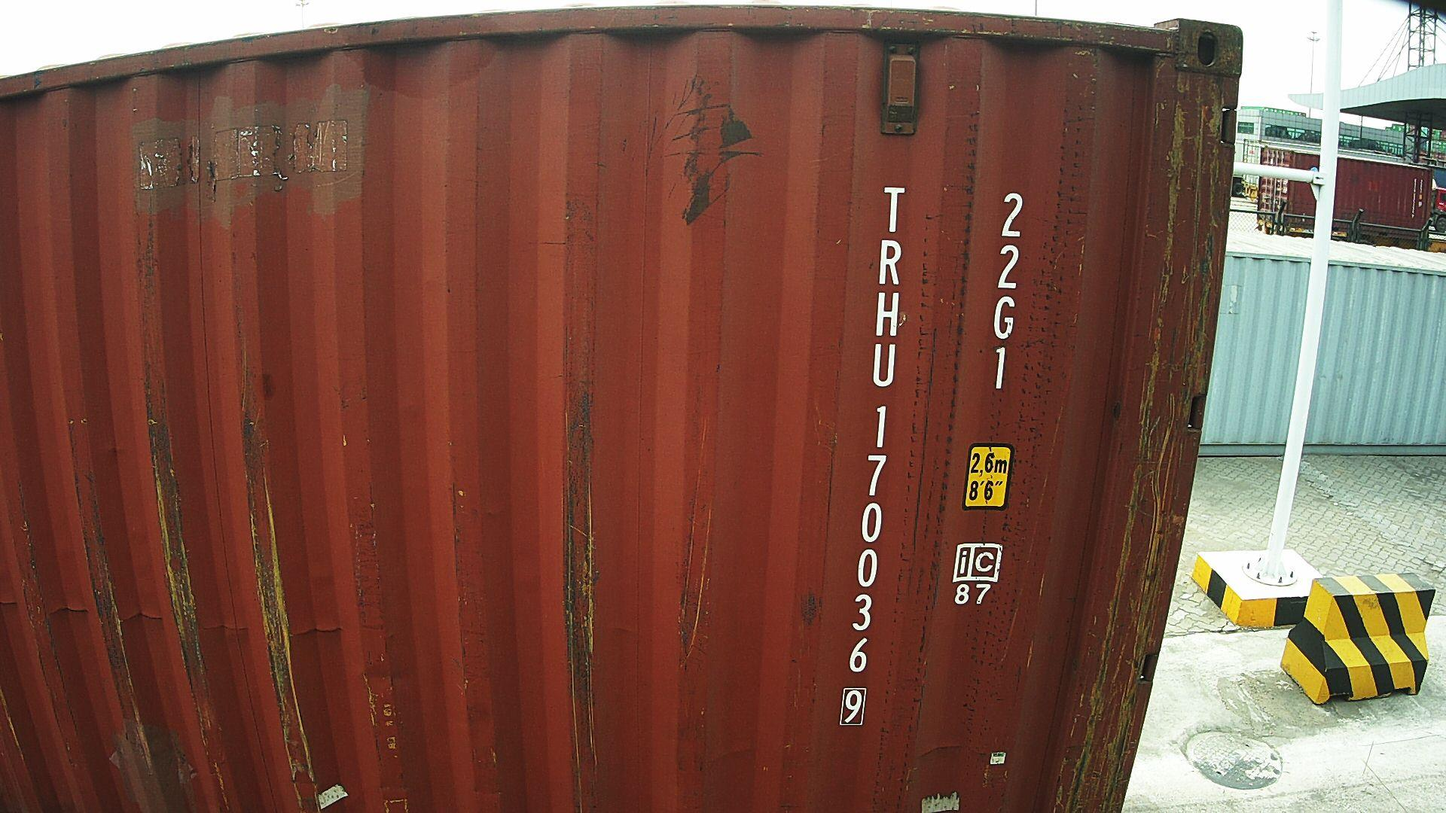container-numbers: (835, 181, 906, 730), (984, 187, 1030, 397)
